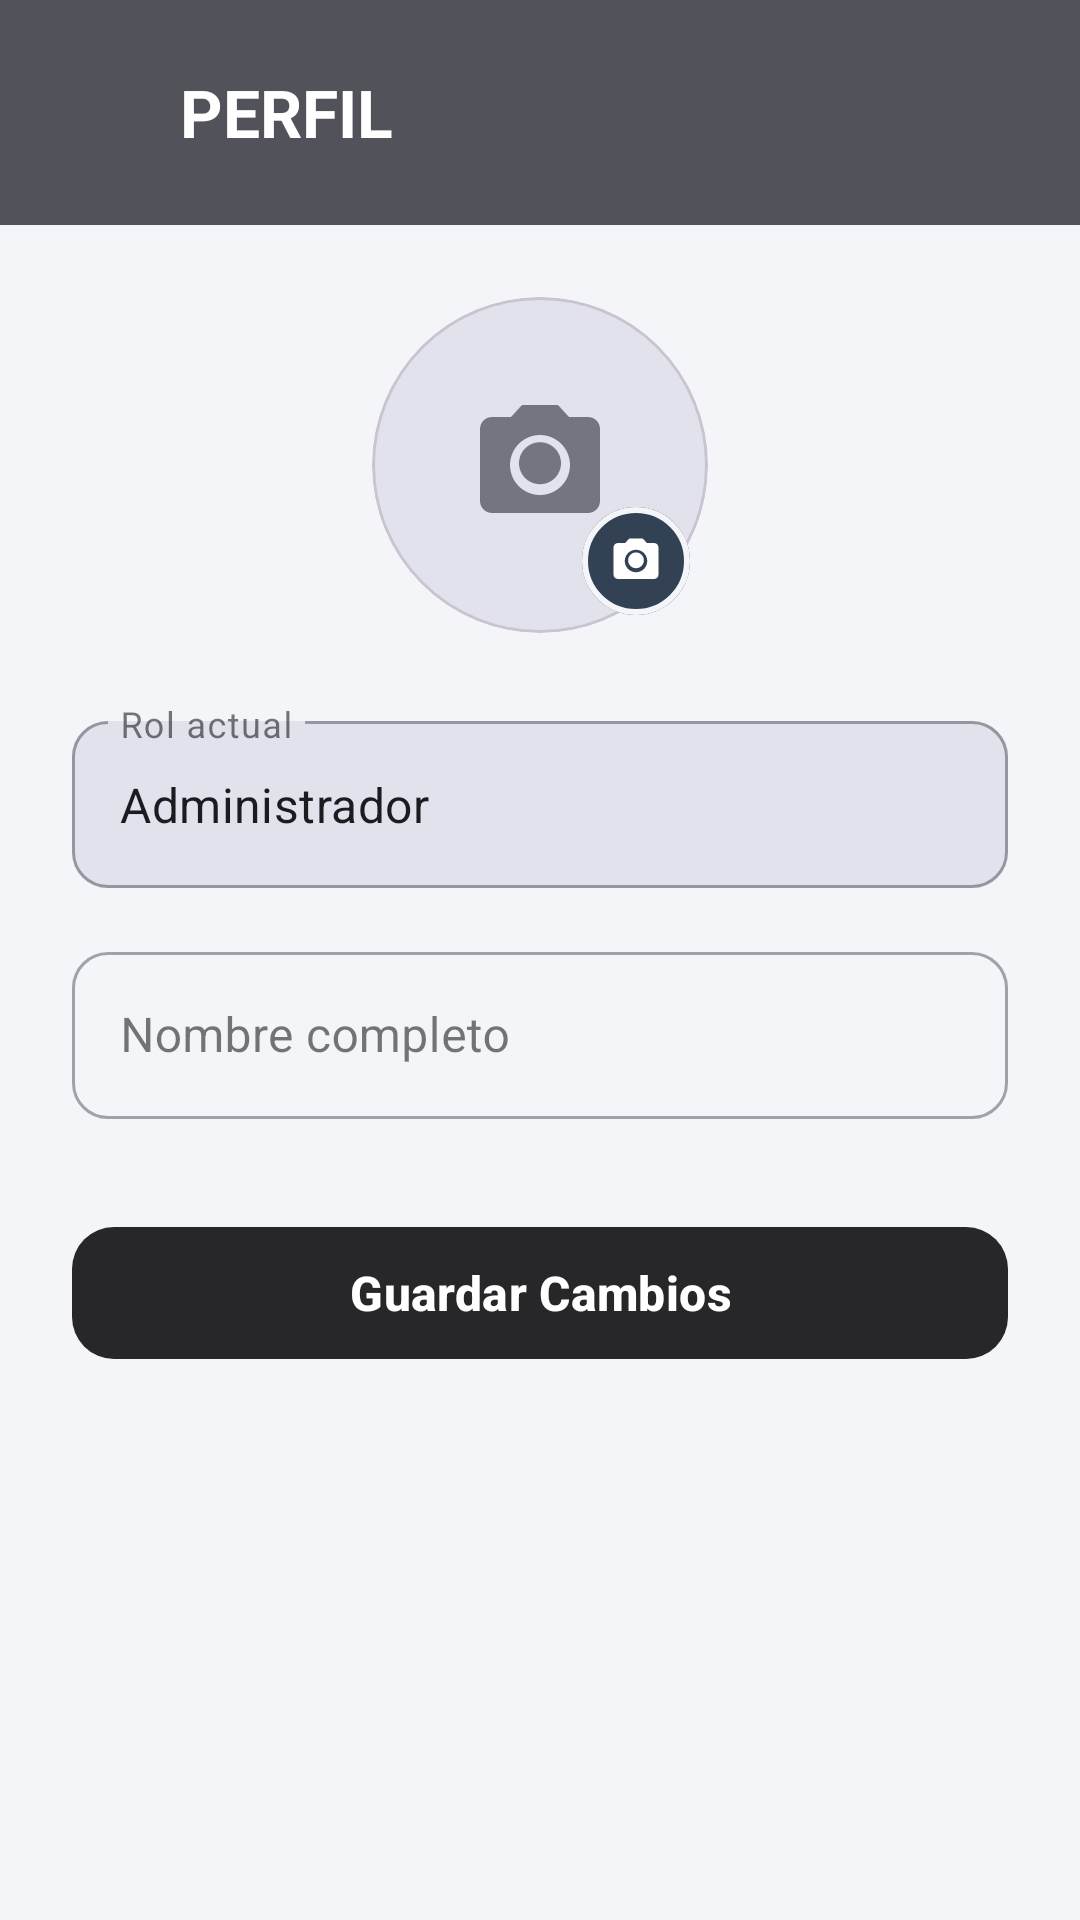

Point at icon controls on the screen. Image size 1080w x 1920h, points as point (x, y).
Cambiar foto: point (636, 561)
